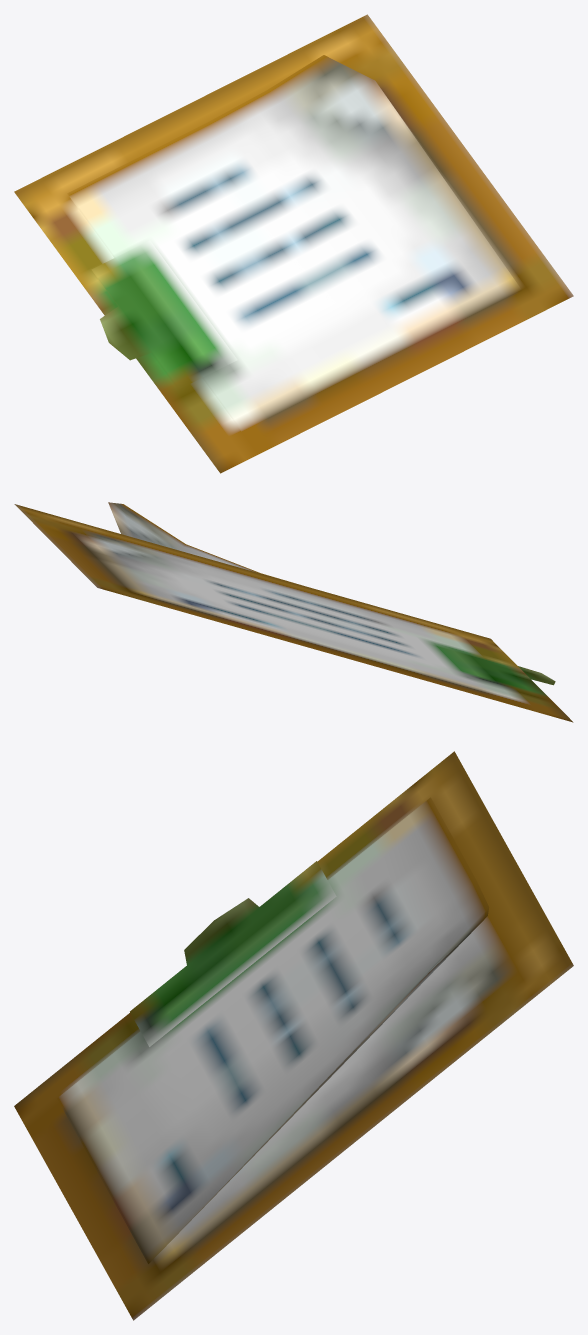
Rendered from fg_signature_form_out.dae.
3 renders of one model, top to bottom at view 1: azimuth 30°, elevation 25°; view 2: azimuth 150°, elevation 25°; view 3: azimuth 270°, elevation 25°, orthographic. The views are drawn at different scales.
Visible parts, largest first — view 1: fg_signature_form_out; view 2: fg_signature_form_out; view 3: fg_signature_form_out.
Part boxes in pixels (x1=…): fg_signature_form_out: x1=14, y1=14, x2=573, y2=473; fg_signature_form_out: x1=14, y1=502, x2=573, y2=722; fg_signature_form_out: x1=14, y1=751, x2=573, y2=1320.
Size of the model in its own units: 18.79 by 9.77 by 12.73.
Materials: 1 (1 with a texture image).
